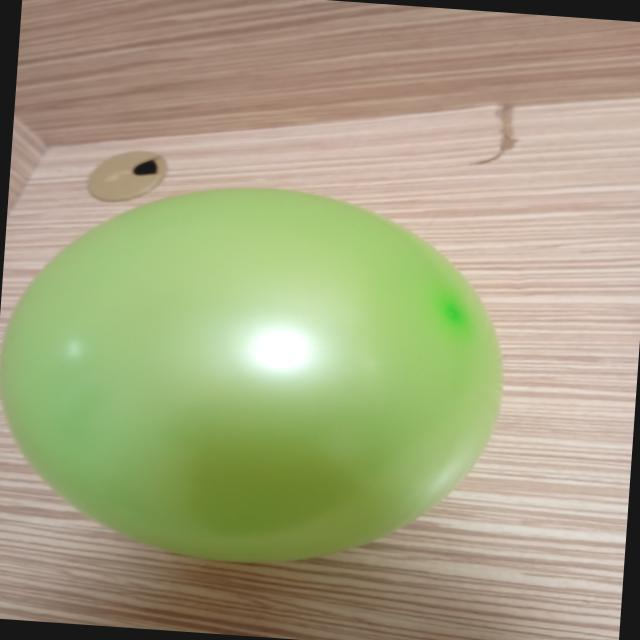balloon: (0, 188, 502, 562)
